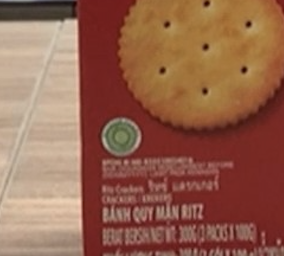halal: (108, 122, 132, 149)
